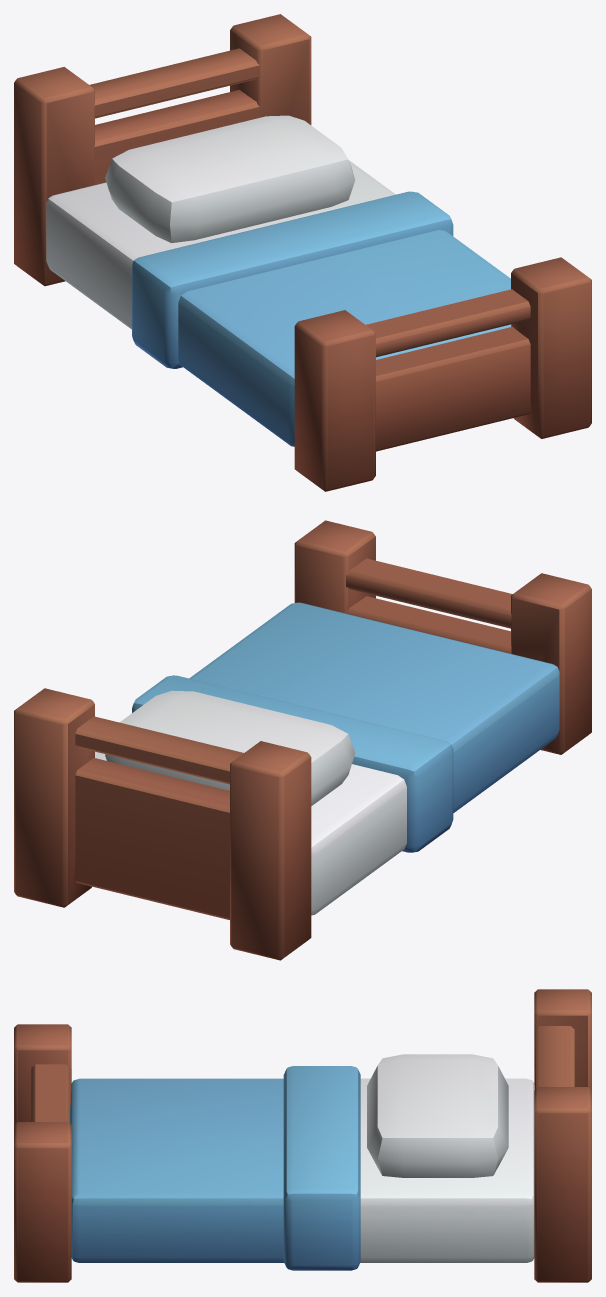
File: kkf.bed_single_b.glb
3 renders of one model, top to bottom at view 1: azimuth 30°, elevation 25°; view 2: azimuth 150°, elevation 25°; view 3: azimuth 270°, elevation 25°, orthographic. The views are drawn at different scales.
Parts seen in each view (by area): view 1: bed_single_B; view 2: bed_single_B; view 3: bed_single_B.
Part boxes in pixels (bbox=[...]): bed_single_B: bbox=[14, 14, 591, 491]; bed_single_B: bbox=[14, 520, 591, 960]; bed_single_B: bbox=[14, 989, 591, 1282].
Size of the model in its own units: 1.14 by 0.7153 by 2.15.
Materials: 1 (1 with a texture image).
